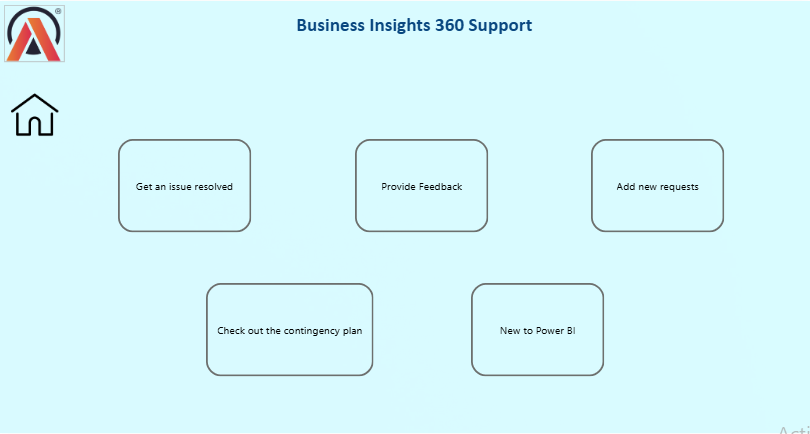

What the dashboard file says about the page in this screenshot:
{"tool":"powerbi","page":{"name":"Support","canvas":[1350,720],"ordinal":7},"visuals":[{"type":"image","box":[7.3,5.9,101,95.1],"z":0},{"type":"textbox","box":[482.5,6.3,414.3,66.7],"z":1000},{"type":"actionButton","box":[196.8,230.2,222.2,155.6],"z":2000},{"type":"actionButton","box":[591.3,230.2,222.2,155.6],"z":3000},{"type":"actionButton","box":[985.7,230.2,222.2,155.6],"z":4000},{"type":"actionButton","box":[342.9,469.8,279.4,155.6],"z":5000},{"type":"actionButton","box":[785.7,469.8,222.2,155.6],"z":6000},{"type":"image","box":[12.7,150.8,88.9,79.4],"z":7000}]}

Visuals, with their boxes in screenshot pixels (x1, y1, x2, y2), scaled from the page's 1350x720 canvas onto the 810x434 screenshot:
image: [left=4, top=4, right=65, bottom=61]
textbox: [left=290, top=4, right=538, bottom=44]
actionButton: [left=118, top=139, right=251, bottom=233]
actionButton: [left=355, top=139, right=488, bottom=233]
actionButton: [left=591, top=139, right=725, bottom=233]
actionButton: [left=206, top=283, right=373, bottom=377]
actionButton: [left=471, top=283, right=605, bottom=377]
image: [left=8, top=91, right=61, bottom=139]
